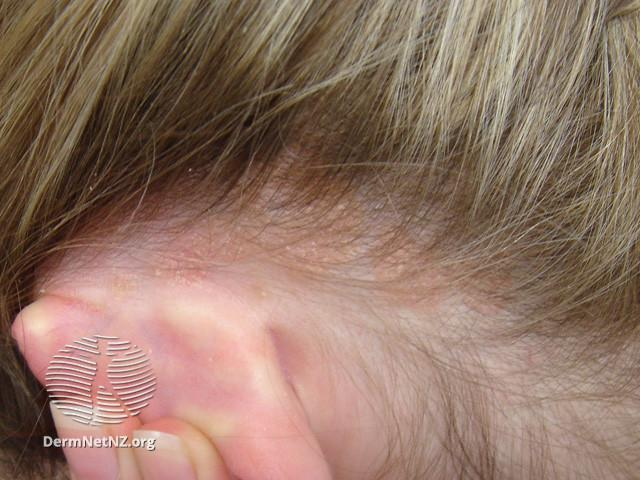Psoriasis: (30, 163, 490, 327)
